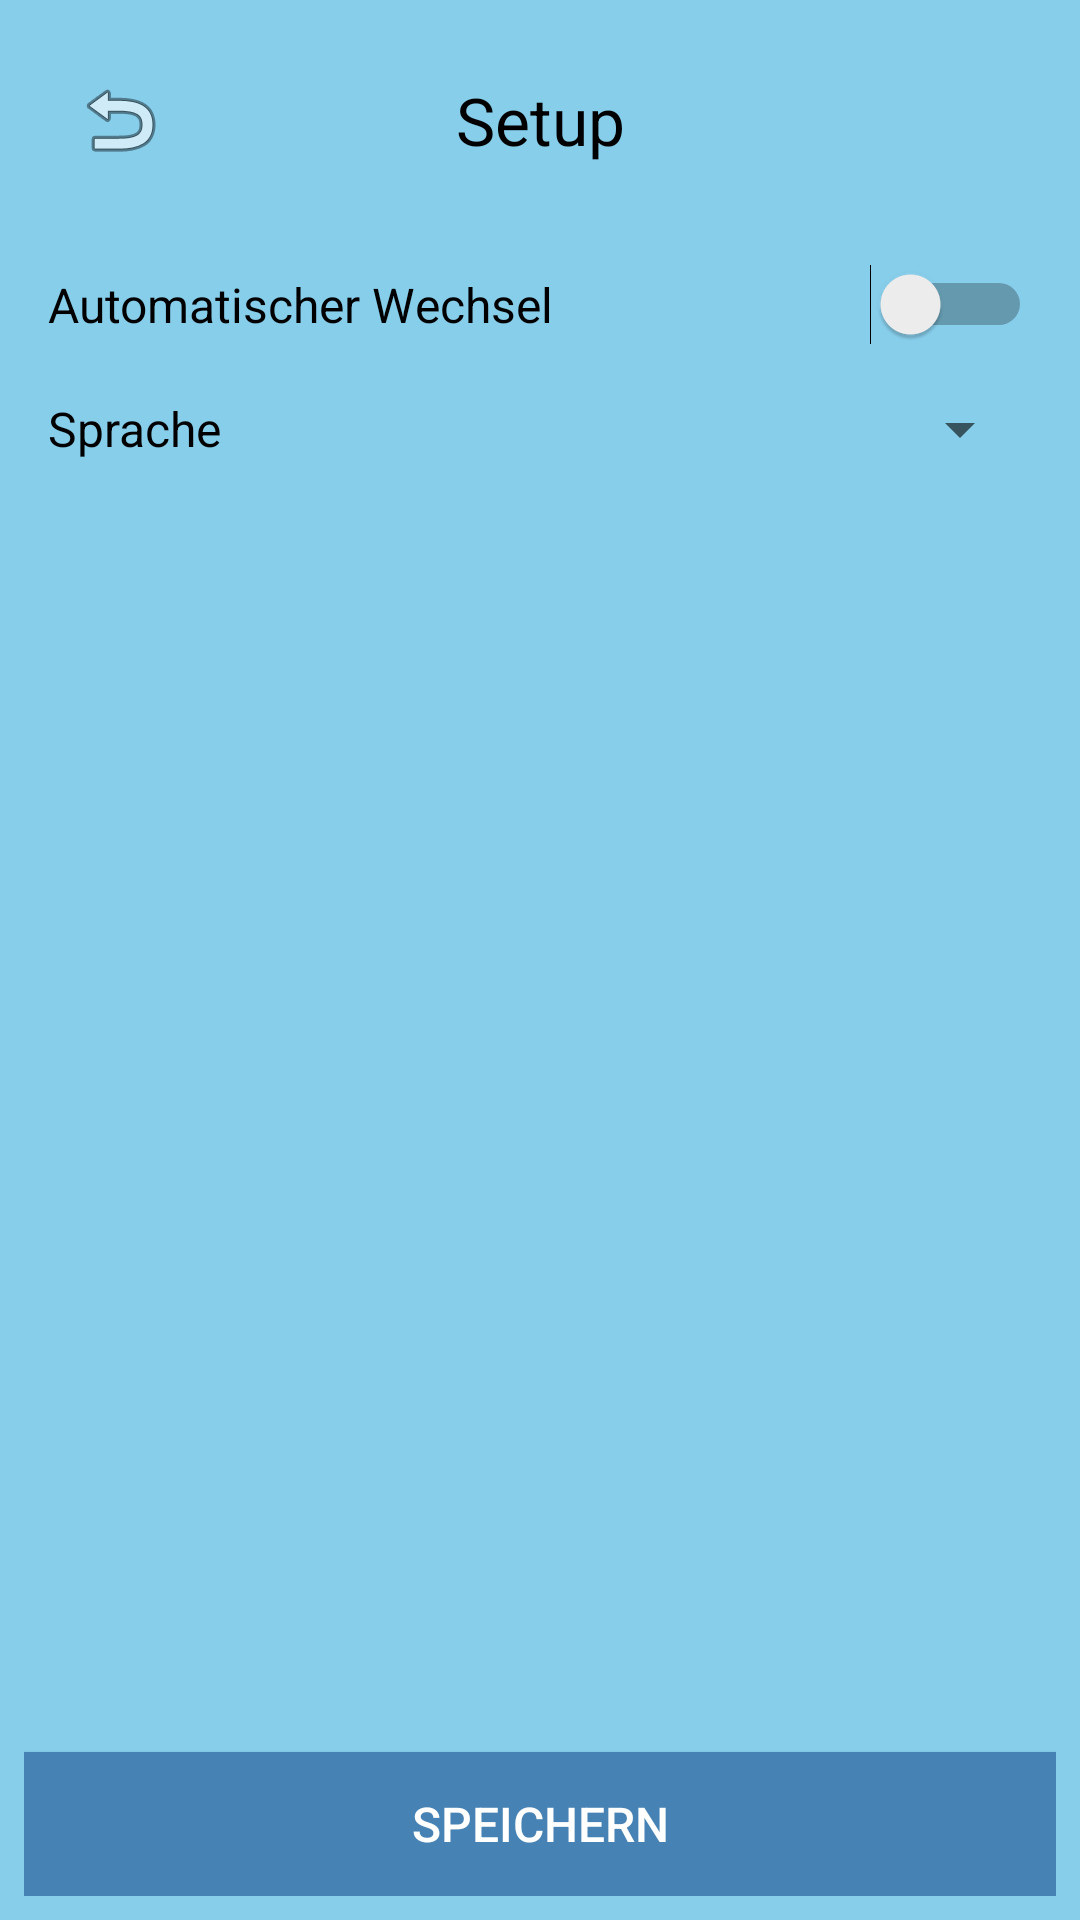

Icon bounding boxes for this 1080×1920 phone screenshot, format [x1, y1, x2, y2]:
Zurück: [87, 89, 156, 152]
